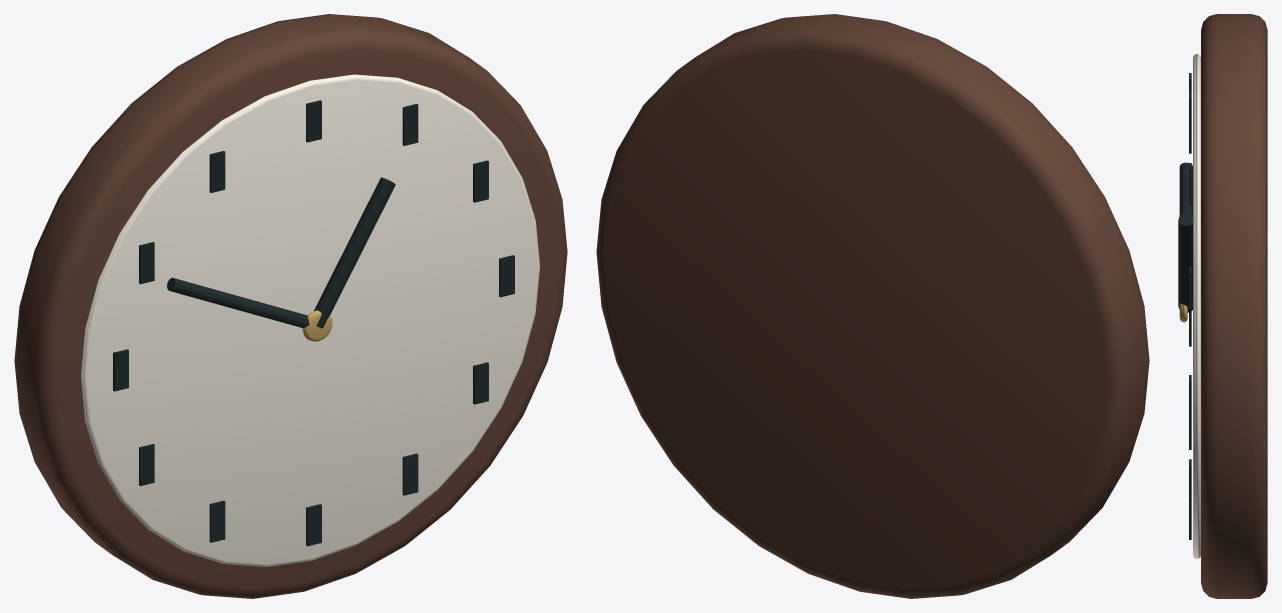
The model's file is wall_clock.glb.
The picture shows the model from 3 angles, left to right: view 1: azimuth 30°, elevation 25°; view 2: azimuth 150°, elevation 25°; view 3: azimuth 270°, elevation 25°; orthographic projection. The views are drawn at different scales.
Parts seen in each view (by area): view 1: Clock face, Clock case, Hour hand, Minute hand; view 2: Clock case; view 3: Clock case, Clock face, Hour hand, Minute hand, Hand pin.
Boxes of the visible parts, left/top/right/bottom form: Clock face: left=81, top=74, right=539, bottom=566; Clock case: left=14, top=14, right=567, bottom=598; Hour hand: left=314, top=177, right=395, bottom=328; Minute hand: left=167, top=277, right=309, bottom=328; Clock case: left=596, top=14, right=1149, bottom=598; Clock case: left=1201, top=14, right=1267, bottom=598; Clock face: left=1193, top=54, right=1200, bottom=558; Hour hand: left=1178, top=213, right=1192, bottom=312; Minute hand: left=1179, top=162, right=1192, bottom=215; Hand pin: left=1179, top=303, right=1187, bottom=322.
Bounding box in the file's own units: 0.44 × 0.44 × 0.067.
